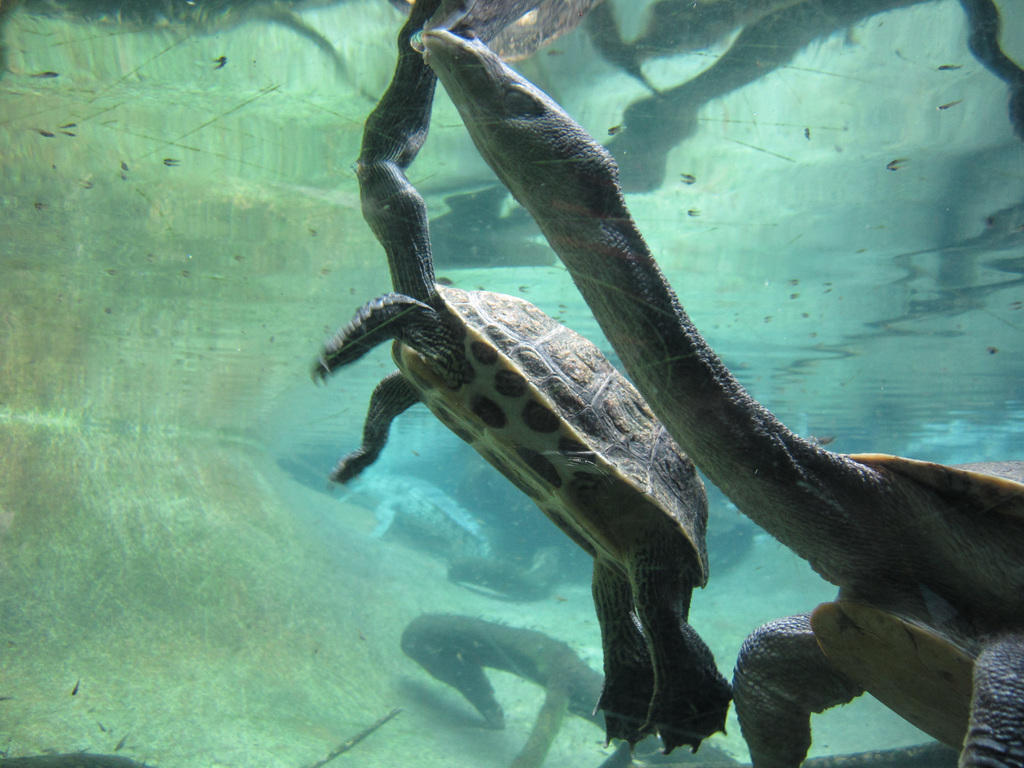Sea turtles: (416, 23, 1023, 767), (323, 165, 729, 751)
